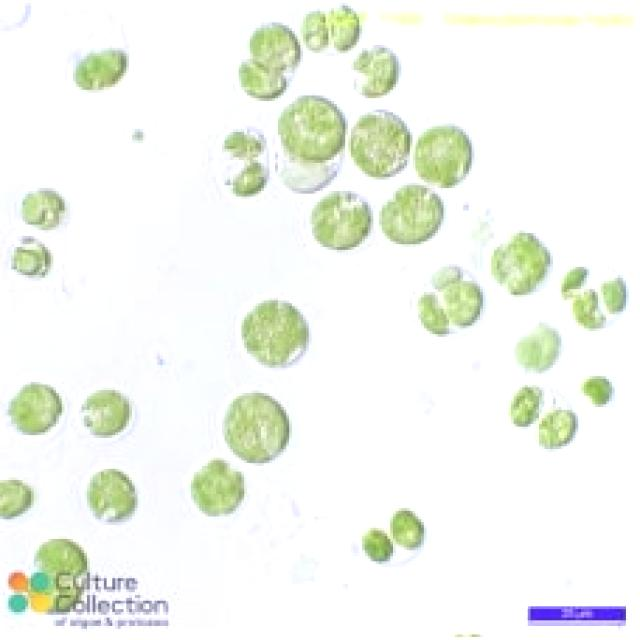Green Algae: (238, 298, 312, 370), (275, 87, 345, 163), (222, 390, 294, 463), (345, 110, 410, 180), (308, 191, 371, 255), (488, 228, 544, 298), (412, 124, 472, 188), (379, 180, 443, 238), (188, 454, 247, 516), (346, 36, 402, 98), (8, 379, 64, 441), (81, 466, 138, 522), (79, 382, 132, 438), (17, 182, 73, 233), (70, 45, 129, 93), (508, 323, 561, 376), (230, 56, 286, 101), (250, 20, 297, 67), (3, 236, 53, 280), (536, 407, 578, 452), (444, 284, 486, 328), (415, 292, 455, 337), (508, 379, 542, 427), (298, 3, 328, 56), (2, 474, 34, 520), (573, 289, 609, 329), (393, 508, 427, 550), (362, 525, 396, 567), (328, 3, 354, 50), (578, 374, 615, 404), (598, 278, 629, 311), (556, 264, 586, 297), (429, 267, 466, 289)
